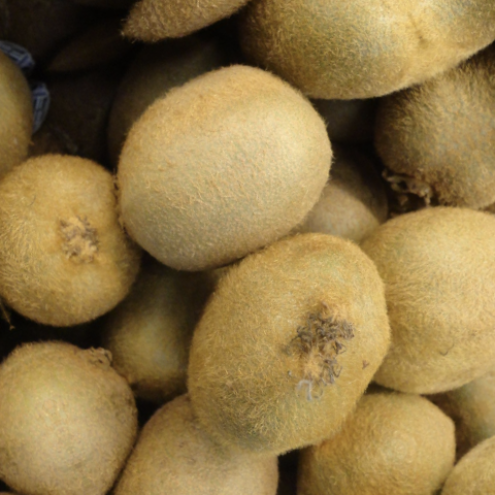kiwi: (52, 16, 373, 327), (126, 190, 448, 495), (311, 167, 495, 426), (0, 116, 184, 355)
